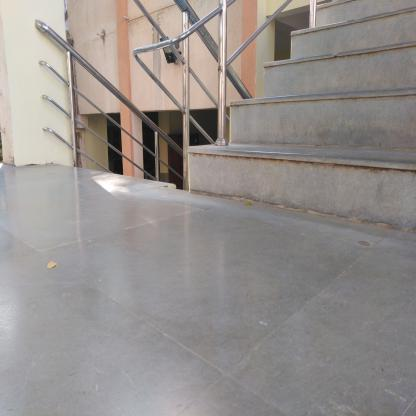stairs: (267, 58, 416, 250)
